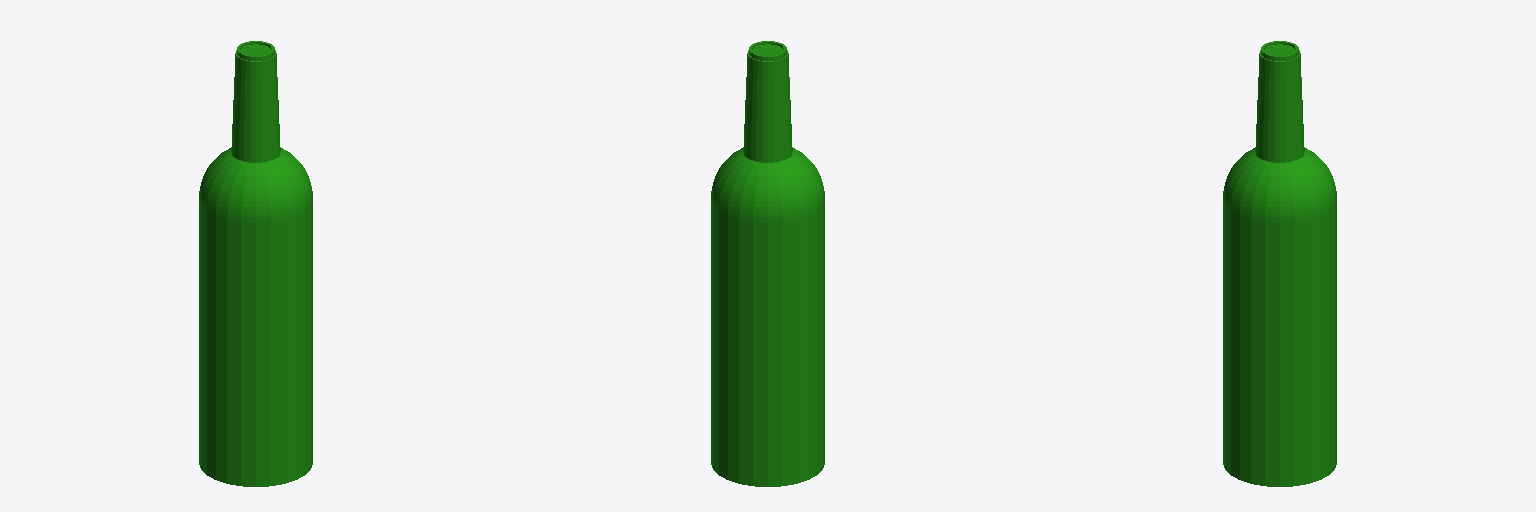
File: wine.obj
3 renders of one model, left to right at view 1: azimuth 30°, elevation 25°; view 2: azimuth 150°, elevation 25°; view 3: azimuth 270°, elevation 25°, orthographic.
Parts seen in each view (by area): view 1: Mesh1 wine_bottle1 Model; view 2: Mesh1 wine_bottle1 Model; view 3: Mesh1 wine_bottle1 Model.
Boxes of the visible parts, box(x1,y1,x2,y2) form: Mesh1 wine_bottle1 Model: box(199, 41, 312, 486); Mesh1 wine_bottle1 Model: box(711, 41, 824, 486); Mesh1 wine_bottle1 Model: box(1223, 41, 1336, 486).
Bounding box in the file's own units: 27 × 108 × 27.